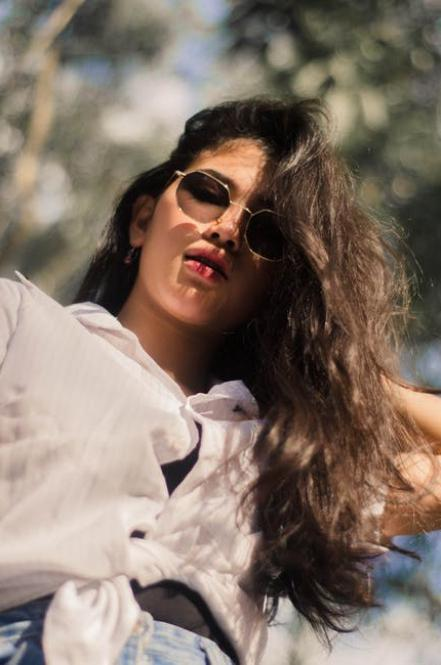face: (140, 137, 289, 327)
